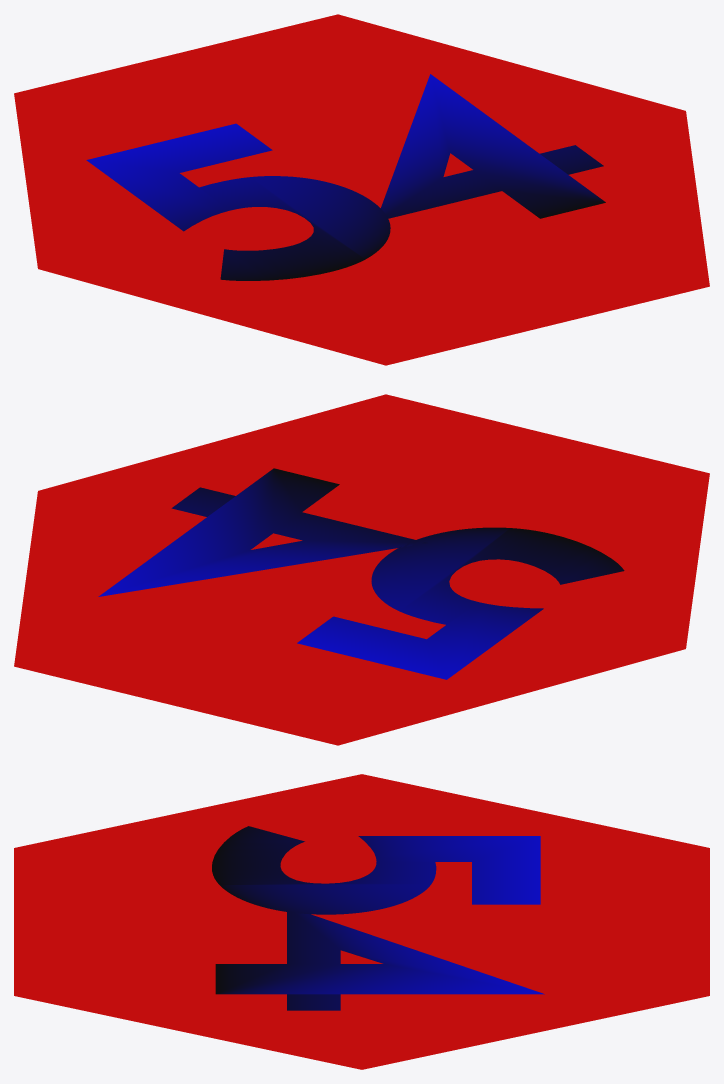
File: SM_Number_54.fbx
3 renders of one model, top to bottom at view 1: azimuth 30°, elevation 25°; view 2: azimuth 150°, elevation 25°; view 3: azimuth 270°, elevation 25°, orthographic. The views are drawn at different scales.
Visible parts, largest first — view 1: FBX_OUT; view 2: FBX_OUT; view 3: FBX_OUT.
Part boxes in pixels (x1=…): FBX_OUT: x1=14, y1=14, x2=709, y2=365; FBX_OUT: x1=14, y1=394, x2=709, y2=745; FBX_OUT: x1=14, y1=774, x2=709, y2=1069.
Bounding box in the file's own units: 50 × 0.2917 × 49.71.
